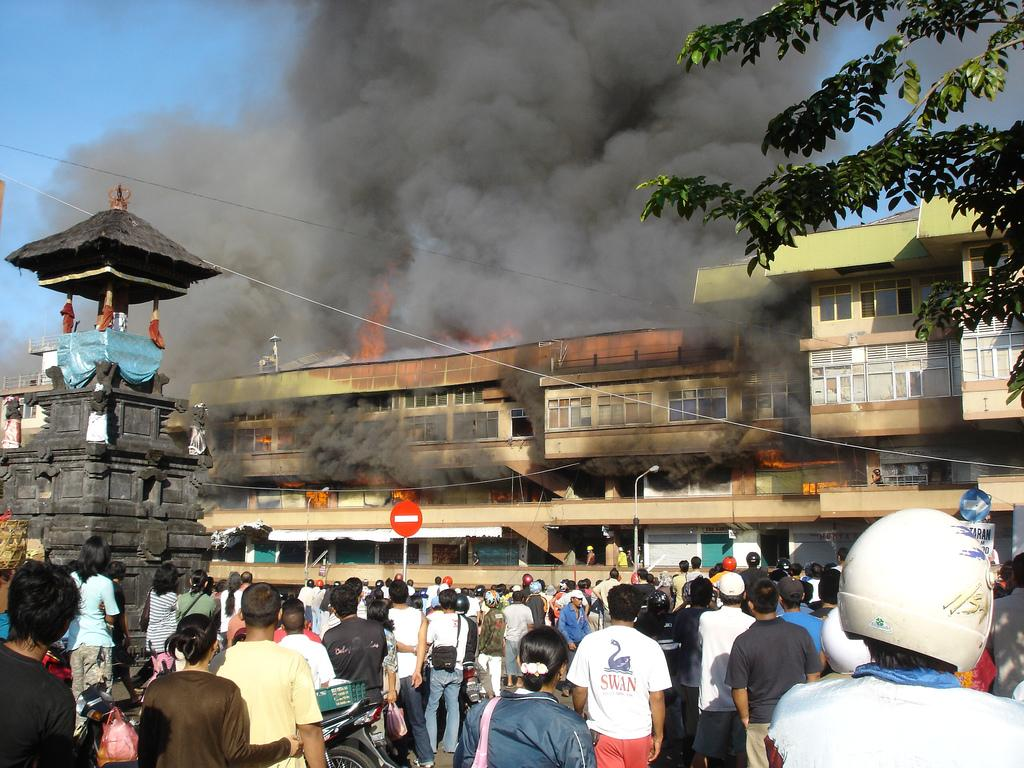fire: (348, 292, 400, 358), (758, 436, 808, 488), (294, 482, 348, 514)
smoke: (360, 36, 644, 266), (146, 152, 326, 280)
